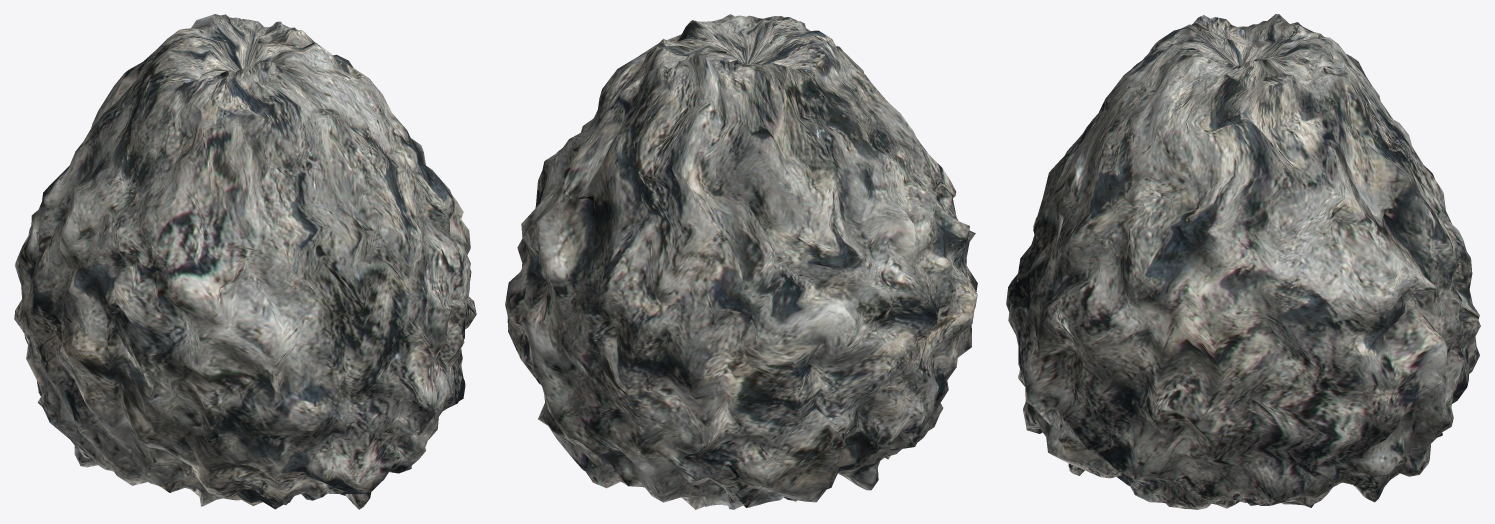
File: asteroid1.FBX
3 views of the same model, side by side, from view 1: azimuth 30°, elevation 25°; view 2: azimuth 150°, elevation 25°; view 3: azimuth 270°, elevation 25° (orthographic).
Parts seen in each view (by area): view 1: Sphere01; view 2: Sphere01; view 3: Sphere01.
Boxes of the visible parts, box(x1,y1,x2,y2) form: Sphere01: box(14, 14, 476, 509); Sphere01: box(505, 14, 977, 509); Sphere01: box(1006, 14, 1480, 509).
Bounding box in the file's own units: 313 × 313 × 326.
1 material, 1 textured.
